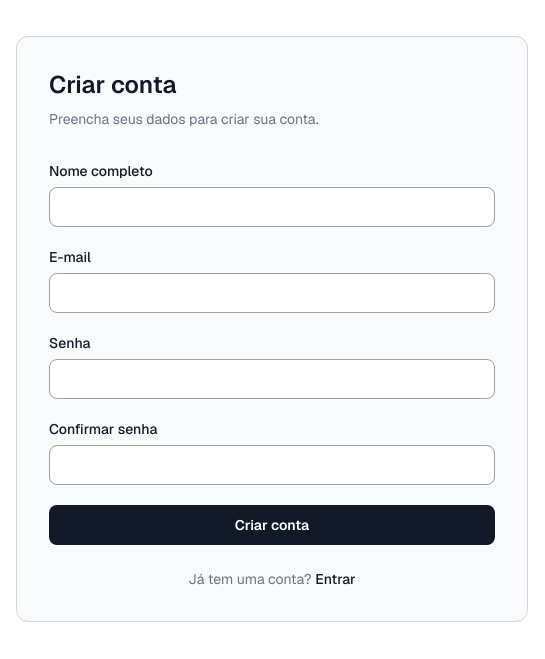
RegisterPage › deve exibir erro retornado pela API
The width and height of the screenshot is (545, 659).
Type "Guilherme Nobre" into the field labelled "Nome completo" at (272, 207), box [49,187,495,227]
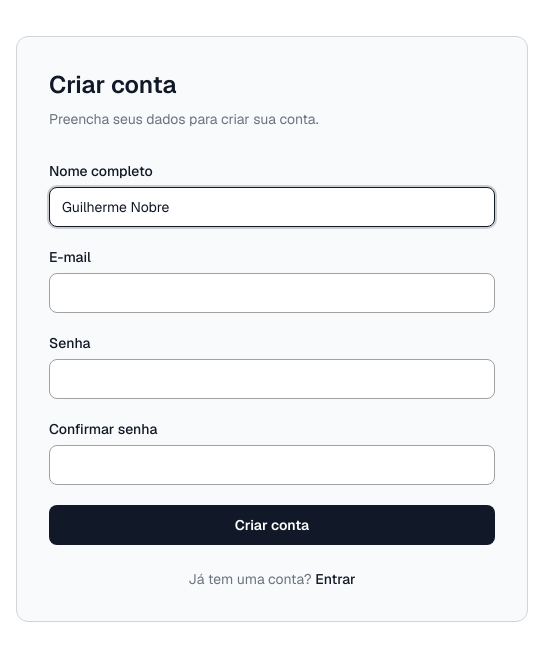
Type "guilherme@example.com" into the field labelled "E-mail" at (272, 293), box [49,273,495,313]
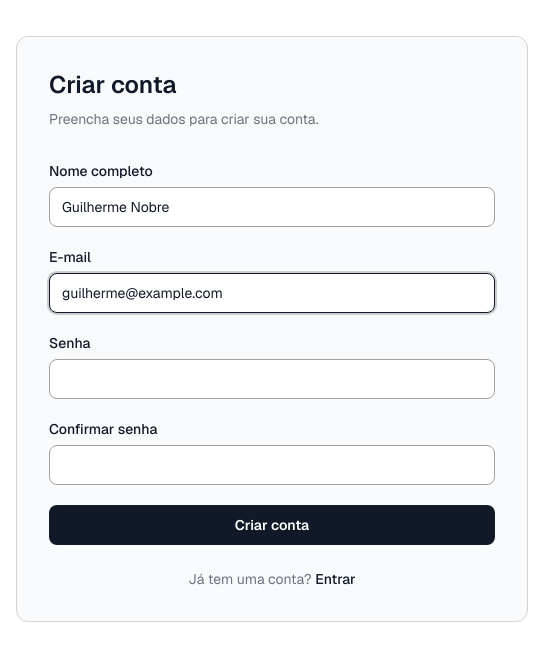
Type "12345678" into the password field labelled "Senha" at (272, 379), box [49,359,495,399]
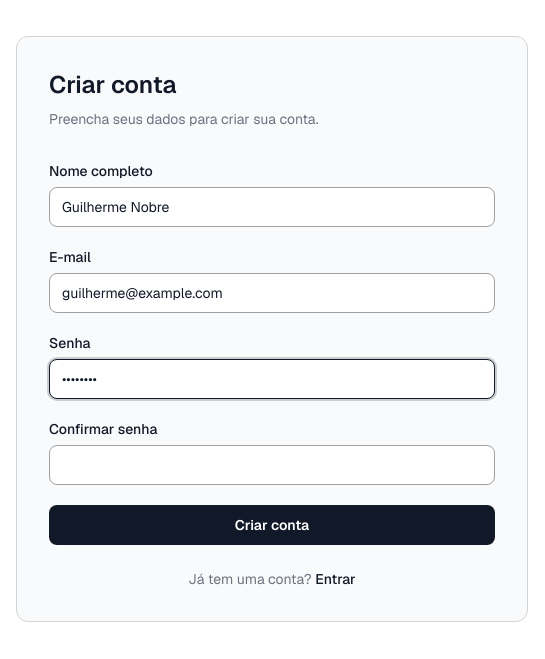
Type "12345678" into the password field labelled "Confirmar senha" at (272, 465), box [49,445,495,485]
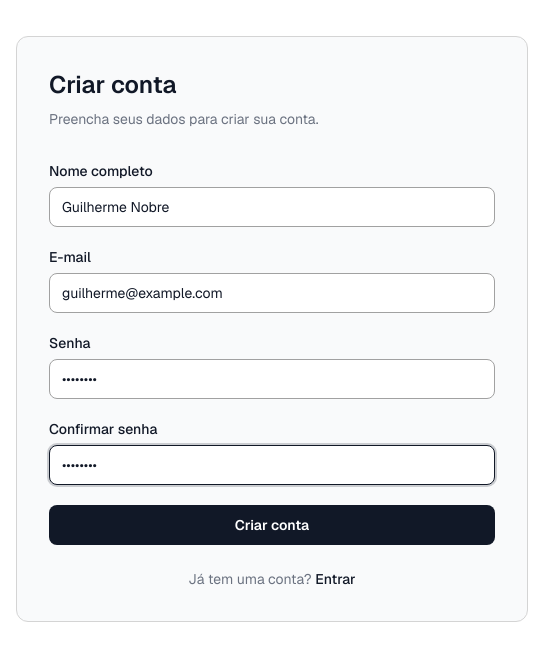
Click the button "Criar conta" at (272, 525), box [49,505,495,545]
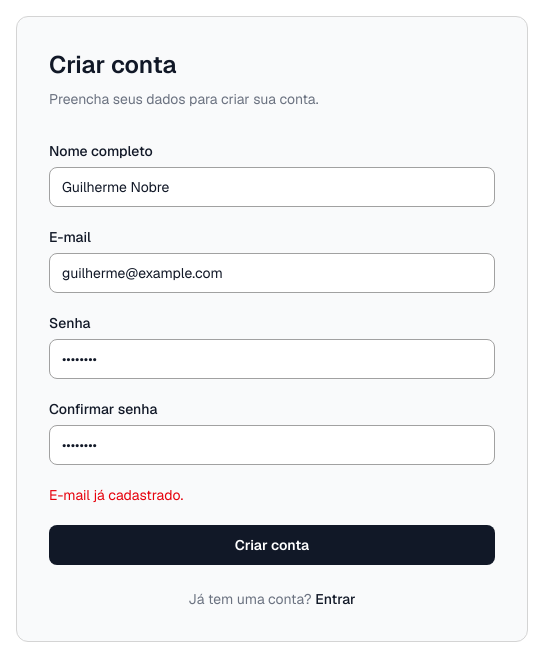
Expected: the message reads "E-mail já cadastrado.", [49,486,183,504]
